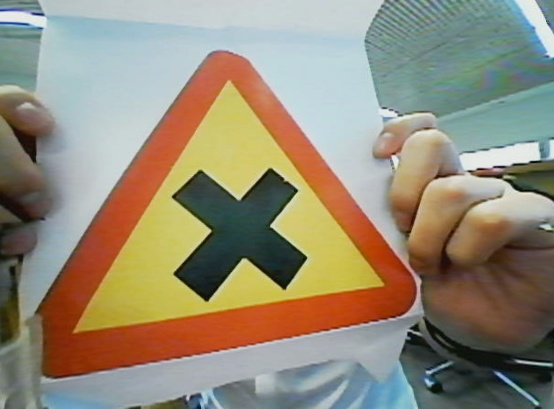junction: (43, 44, 427, 388)
